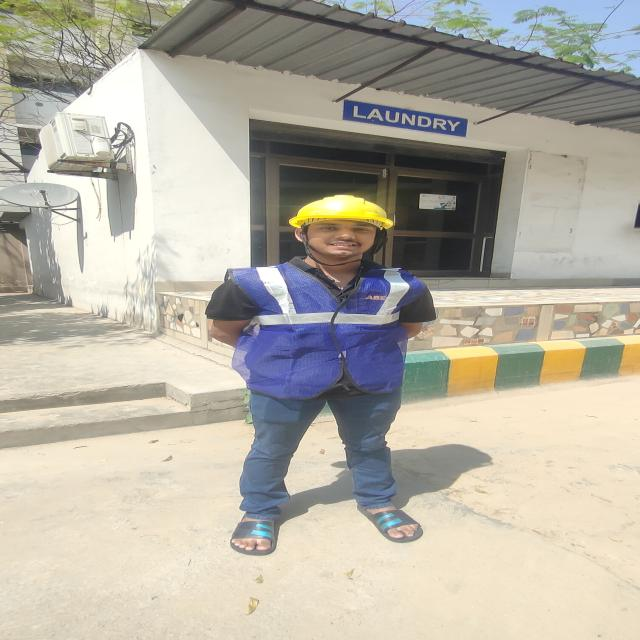safe: (207, 196, 437, 554)
